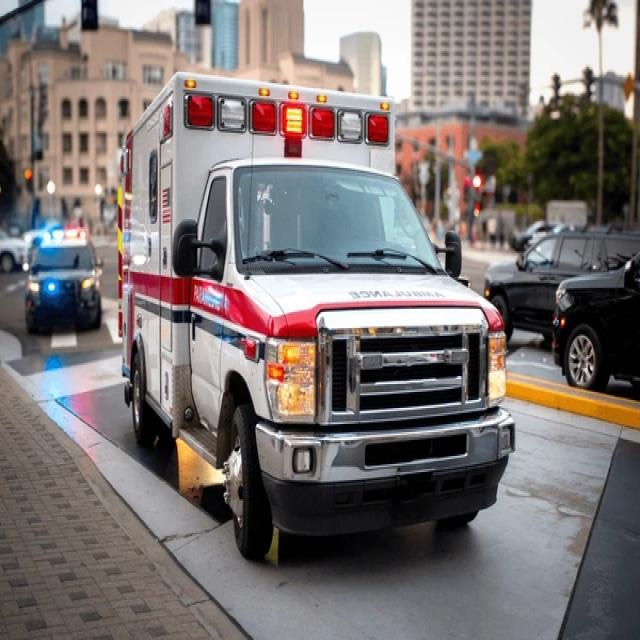Ambulance: (109, 66, 524, 594)
